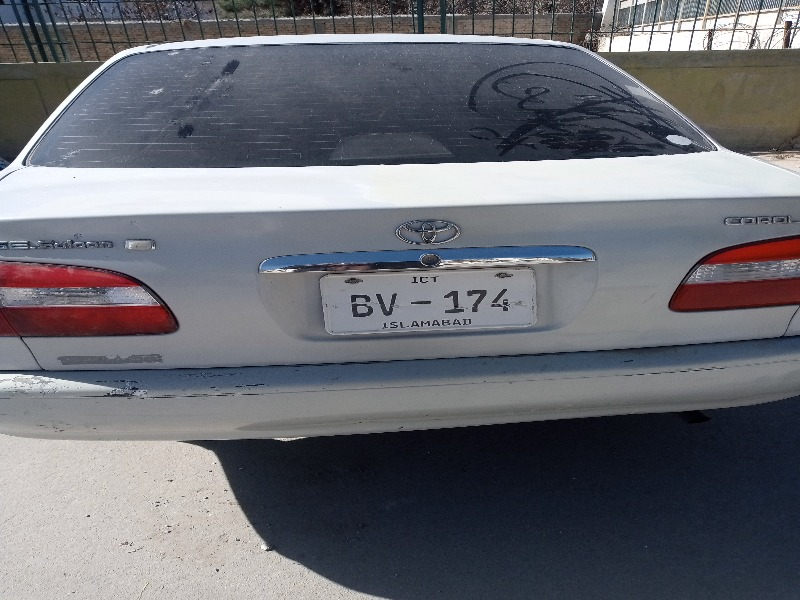License Plate: (314, 267, 542, 334)
